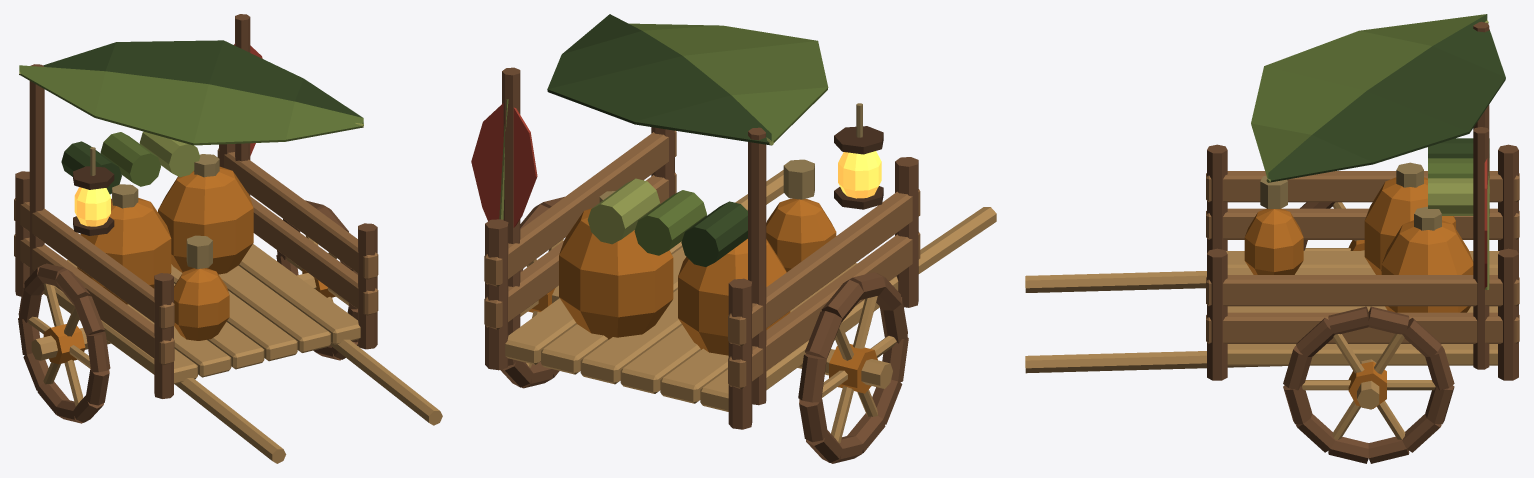
File: merchant-cart.glb
3 renders of one model, left to right at view 1: azimuth 30°, elevation 25°; view 2: azimuth 150°, elevation 25°; view 3: azimuth 270°, elevation 25°, orthographic. The views are drawn at different scales.
Parts seen in each view (by area): view 1: merchant-cart; view 2: merchant-cart; view 3: merchant-cart.
Boxes of the visible parts, left/top/right/bottom form: merchant-cart: left=14, top=14, right=442, bottom=463; merchant-cart: left=471, top=14, right=996, bottom=463; merchant-cart: left=1025, top=14, right=1519, bottom=463.
Size of the model in its own units: 3.2 by 3.01 by 4.18.
